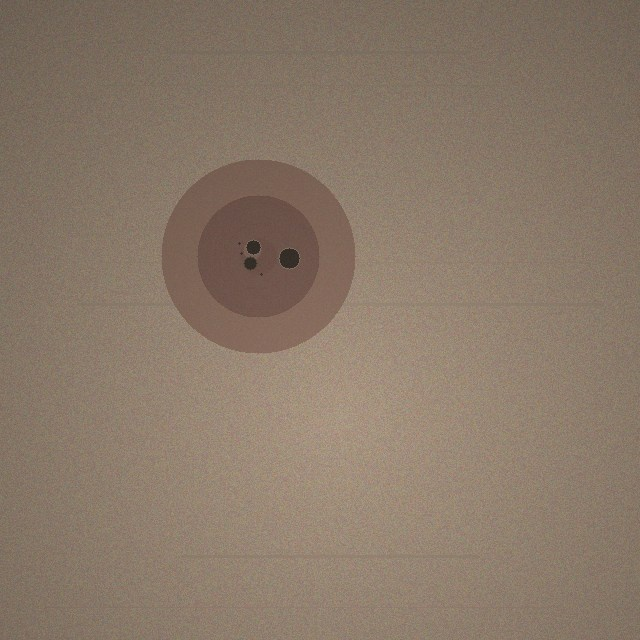shrinkage: (161, 159, 355, 353)
